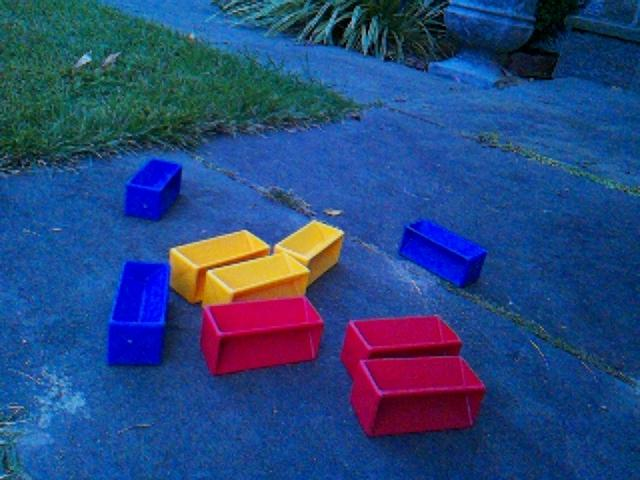blue: (106, 259, 172, 367), (397, 217, 488, 289), (123, 157, 184, 221)
red: (350, 356, 487, 438), (199, 294, 325, 376), (340, 313, 463, 379)
yellow: (168, 231, 272, 306), (201, 251, 311, 308), (274, 219, 345, 287)
